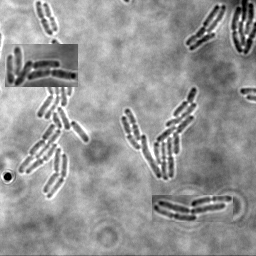Dividing: (34, 1, 52, 37), (41, 3, 57, 33)
Microcolony: (18, 40, 89, 199), (120, 87, 197, 181), (5, 44, 78, 87), (152, 195, 233, 222), (184, 5, 226, 52), (230, 1, 255, 56)
